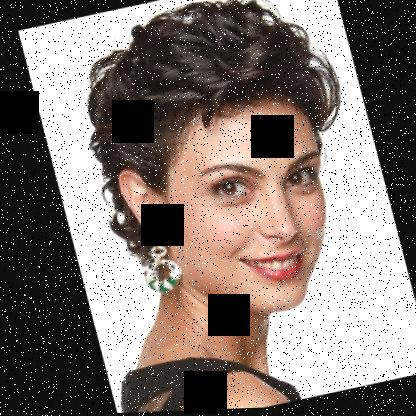Female: (101, 90, 353, 339)
